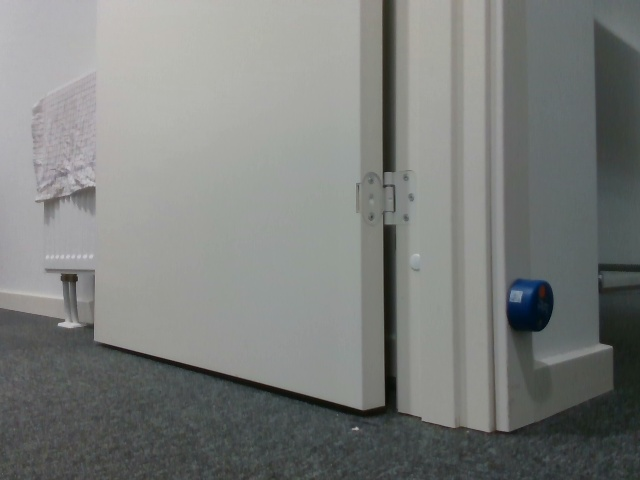alfa: (506, 277, 553, 333)
